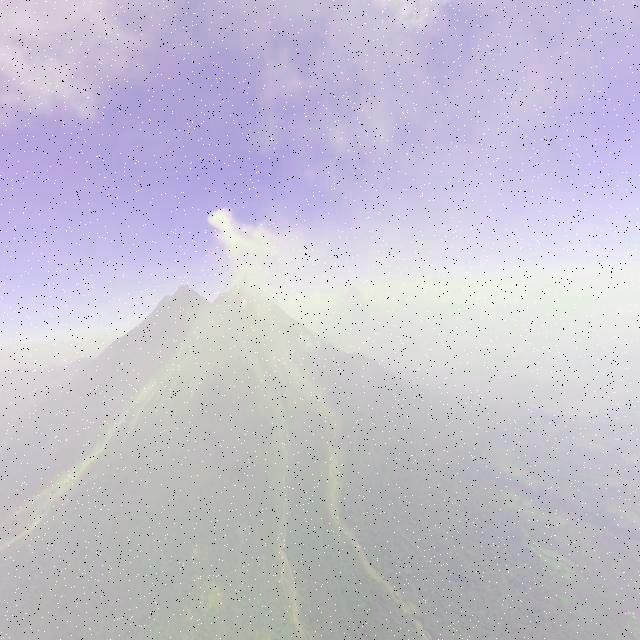Plume: (208, 204, 298, 285)
Summit: (222, 277, 274, 300)
